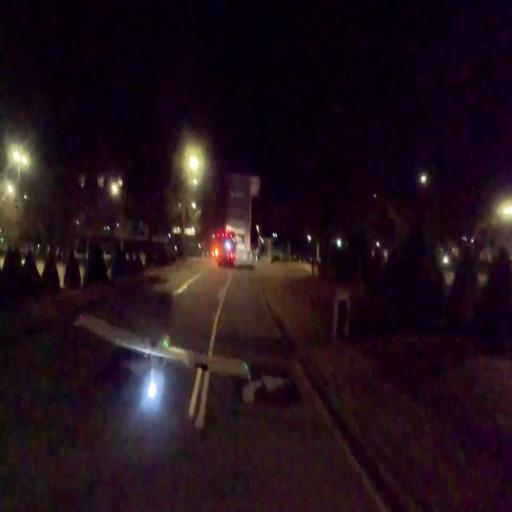uav: (74, 307, 251, 417)
